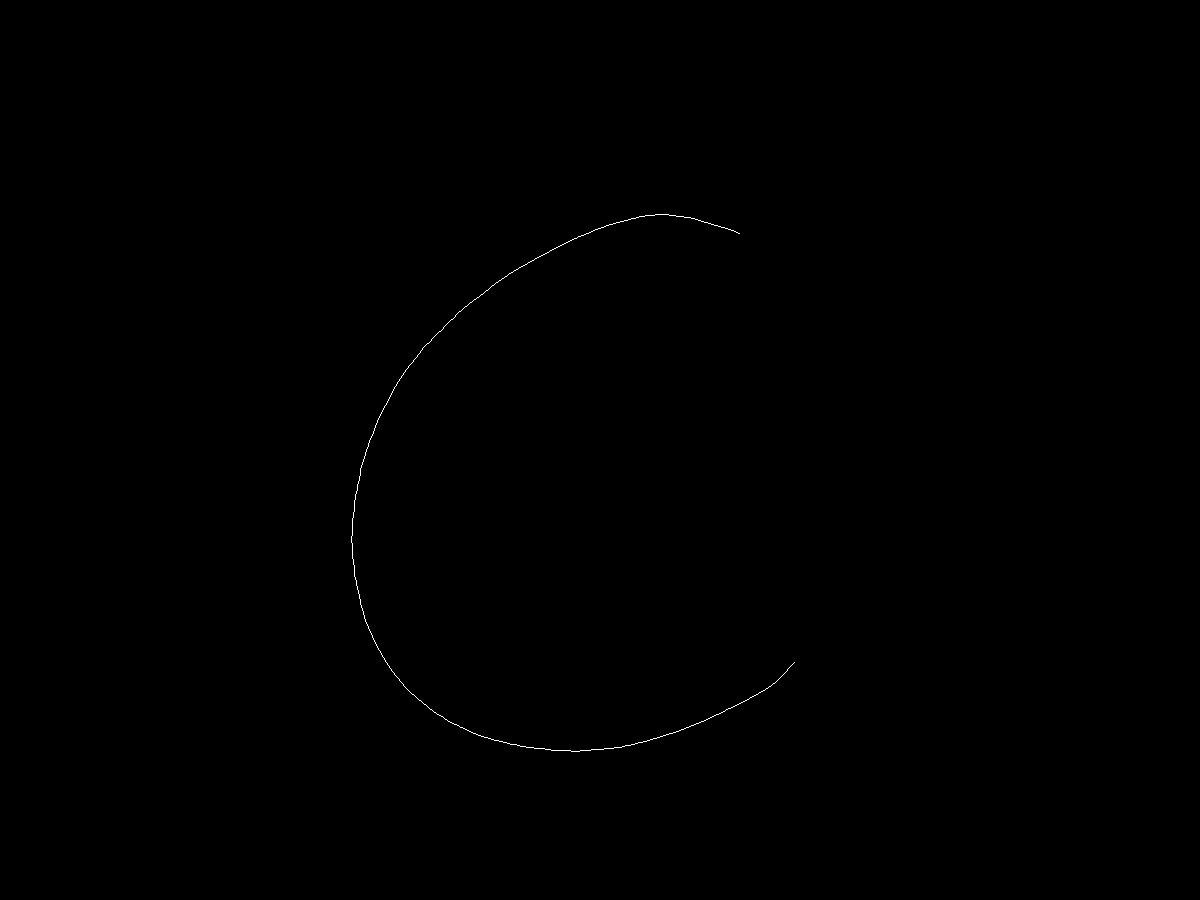dian1: (736, 224, 757, 247)
dian2: (780, 653, 806, 672)
